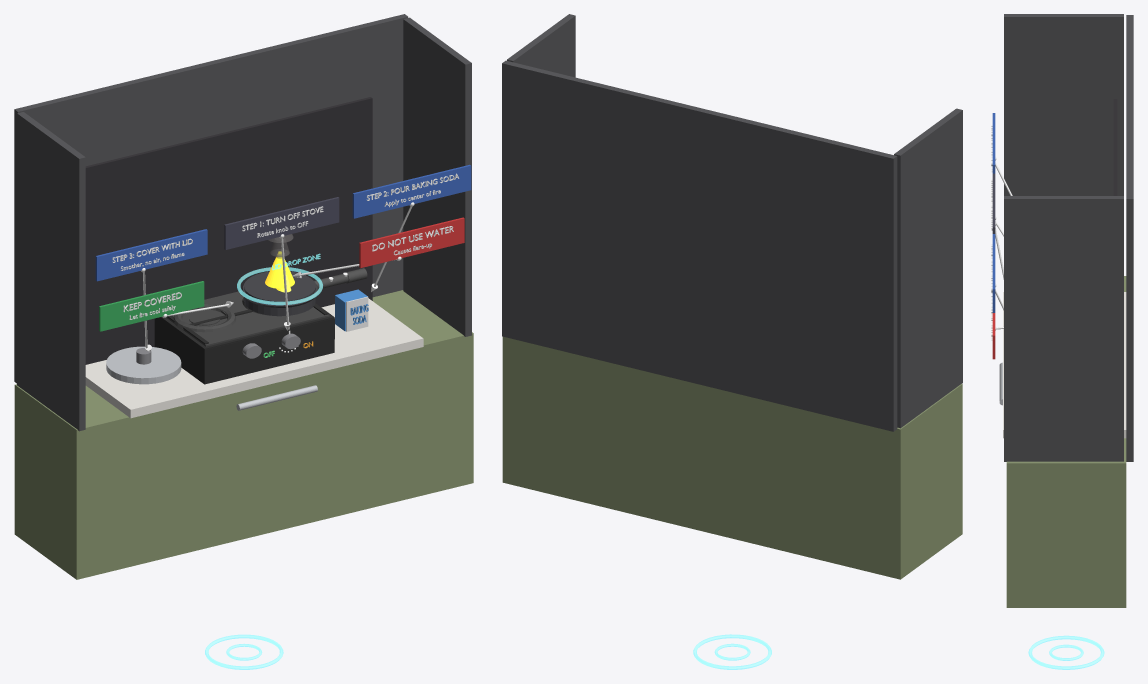
The model's file is Kitchennglb.glb.
3 views of the same model, side by side, from view 1: azimuth 30°, elevation 25°; view 2: azimuth 150°, elevation 25°; view 3: azimuth 270°, elevation 25° (orthographic). The views are drawn at different scales.
Visible parts, largest first — view 1: Environment_Cabinet, Environment_TileBacksplash, Environment_BackWall, Environment_BackWall.002, Environment_BackWall.001, Environment_Countertop, Stove_Body, L2_Panel, L1_Panel, L3_Panel, Stove_TopSurface, L6_Panel (+7 smaller); view 2: Environment_BackWall, Environment_Cabinet, Environment_BackWall.002, Environment_BackWall.001, LidSnapPoint; view 3: Environment_BackWall.001, Environment_BackWall.002, Environment_Cabinet, Environment_BackWall, LidSnapPoint, Environment_Countertop, Environment_TileBacksplash, L2_Panel, BakingSodaPourPoint, L3_Panel, L1_Panel.
Boxes of the visible parts, left/top/right/bottom form: Environment_Cabinet: left=14, top=290, right=473, bottom=579; Environment_TileBacksplash: left=85, top=97, right=372, bottom=364; Environment_BackWall: left=14, top=14, right=408, bottom=383; Environment_BackWall.002: left=17, top=112, right=85, bottom=431; Environment_BackWall.001: left=403, top=17, right=471, bottom=336; Environment_Countertop: left=85, top=298, right=423, bottom=418; Stove_Body: left=154, top=303, right=334, bottom=384; L2_Panel: left=352, top=164, right=471, bottom=218; L1_Panel: left=224, top=197, right=339, bottom=249; L3_Panel: left=95, top=229, right=207, bottom=281; Stove_TopSurface: left=166, top=291, right=329, bottom=346; L6_Panel: left=99, top=281, right=204, bottom=331; Environment_BackWall: left=502, top=60, right=897, bottom=431; Environment_Cabinet: left=502, top=336, right=962, bottom=579; Environment_BackWall.002: left=894, top=108, right=962, bottom=428; Environment_BackWall.001: left=507, top=14, right=575, bottom=77; LidSnapPoint: left=693, top=634, right=771, bottom=669; Environment_BackWall.001: left=1004, top=196, right=1123, bottom=461; Environment_BackWall.002: left=1004, top=14, right=1123, bottom=195; Environment_Cabinet: left=1006, top=276, right=1126, bottom=607; Environment_BackWall: left=1126, top=15, right=1133, bottom=461; LidSnapPoint: left=1028, top=635, right=1104, bottom=669; Environment_Countertop: left=1003, top=292, right=1126, bottom=438; Environment_TileBacksplash: left=1113, top=99, right=1117, bottom=195; L2_Panel: left=992, top=234, right=995, bottom=312; BakingSodaPourPoint: left=1049, top=644, right=1083, bottom=660; L3_Panel: left=992, top=113, right=995, bottom=173; L1_Panel: left=992, top=173, right=995, bottom=233.
Size of the model in its own units: 1.22 by 1.66 by 0.392.
